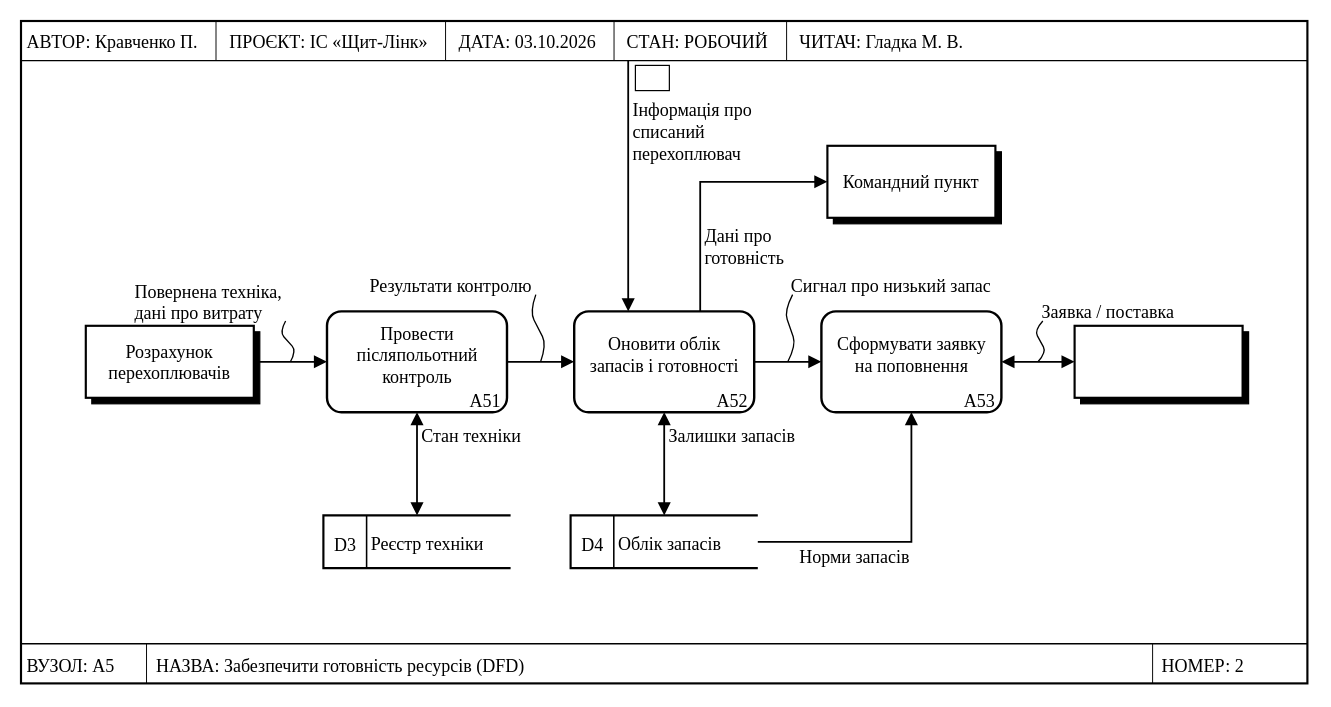
Some shapes in this 1331 by 707 pixel diagram are drawn without their labels. The centre of each missing label's shape, as x and y in pixels:
A4: pixel 651 77
Постачальник: pixel 1158 361
